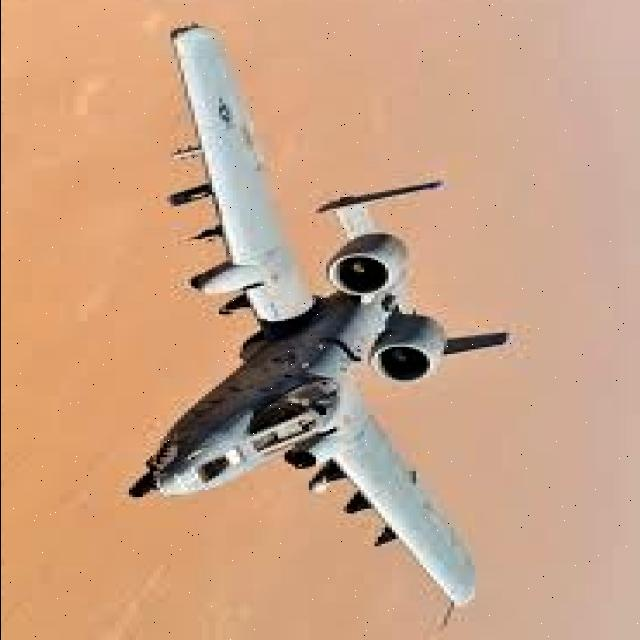A10: (89, 16, 568, 618)
